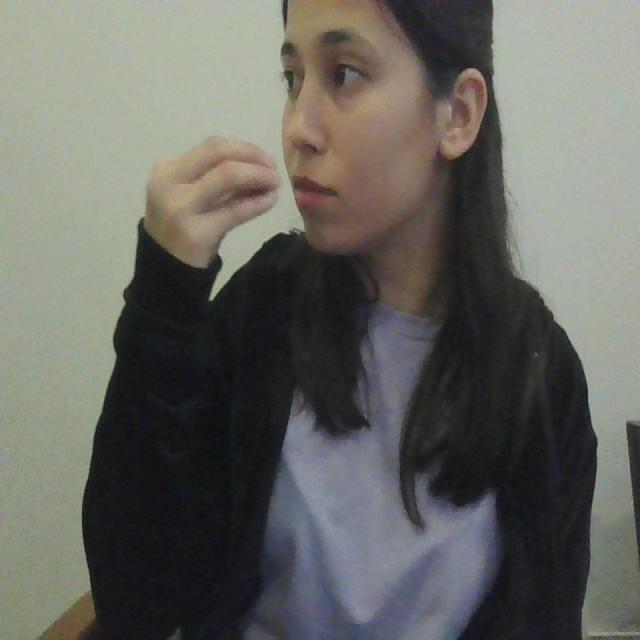Yemek: (140, 134, 340, 219)
